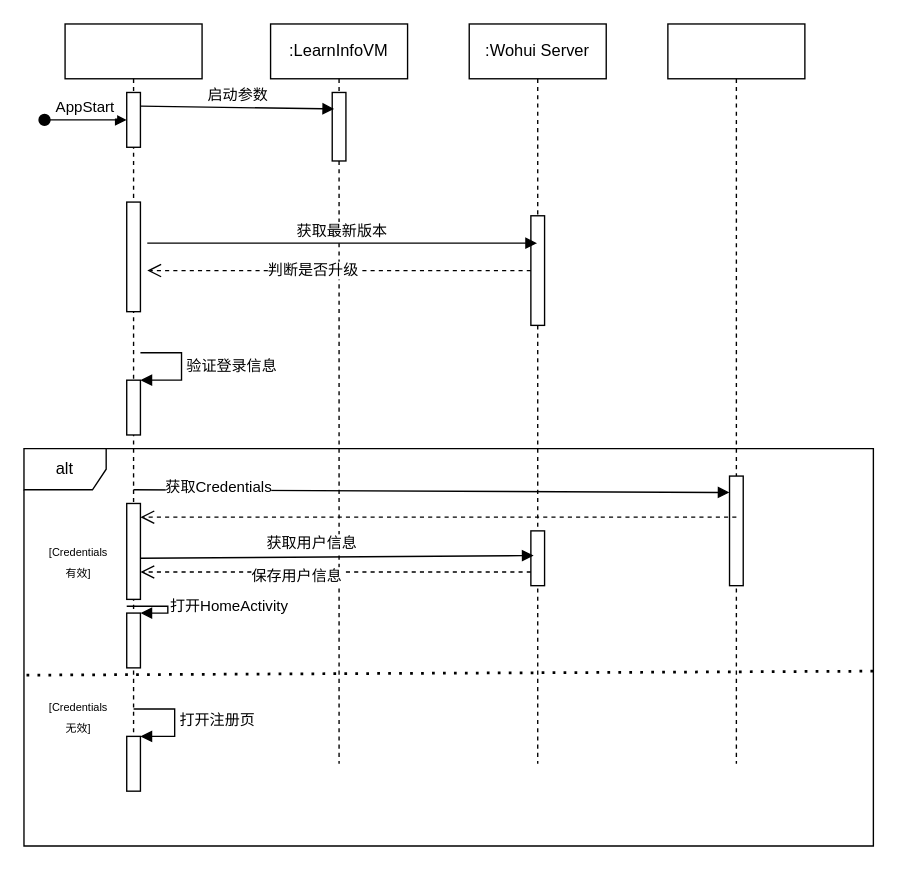
The diagram is 901 pixels wide and 870 high, and some of its shapes have lost their labels. The shapes that lost their labels are listed below. From the top down, each one's box as (x1, y1, x2, y2) in pixels, then its label:
(64, 23, 202, 764): :SplashActivity
(667, 23, 805, 764): :Auth0 Server
